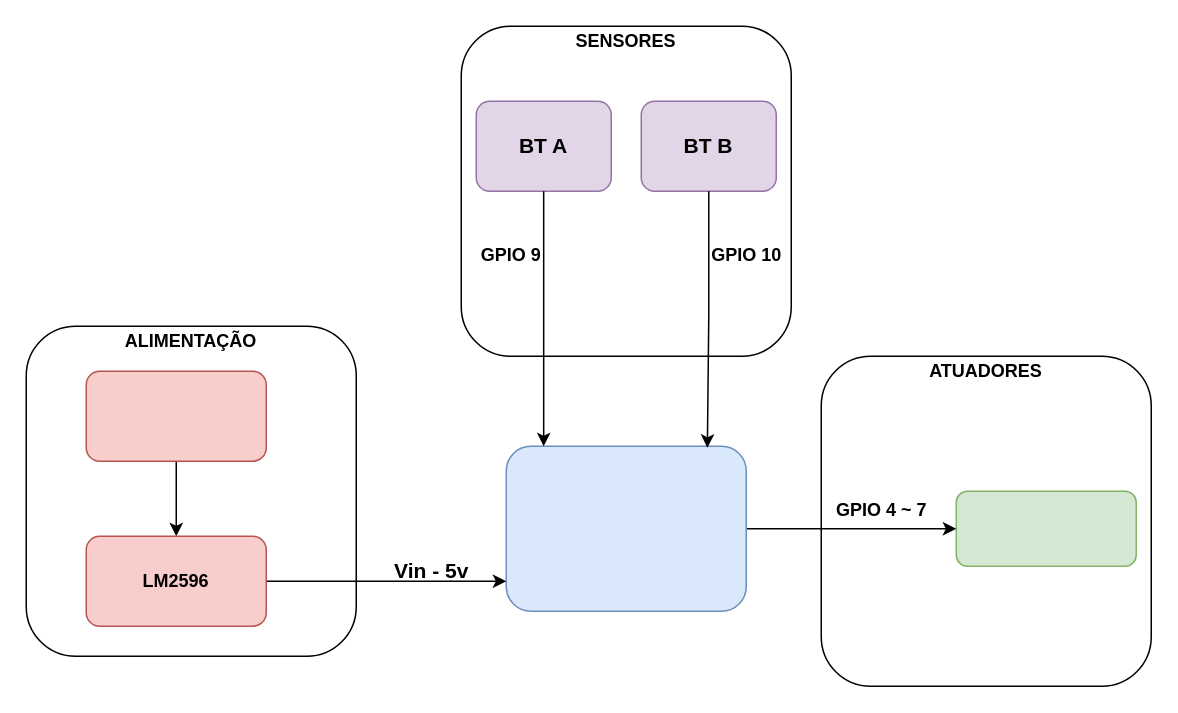
This 1178x713 diagram has some shape labels left out. Here are the shapes that lost their labels. From the top down, the centre of each, then its label:
At [175,415]: "Fonte".
At [625,528]: "ESP32-S3".
At [1045,528]: "LED's".
